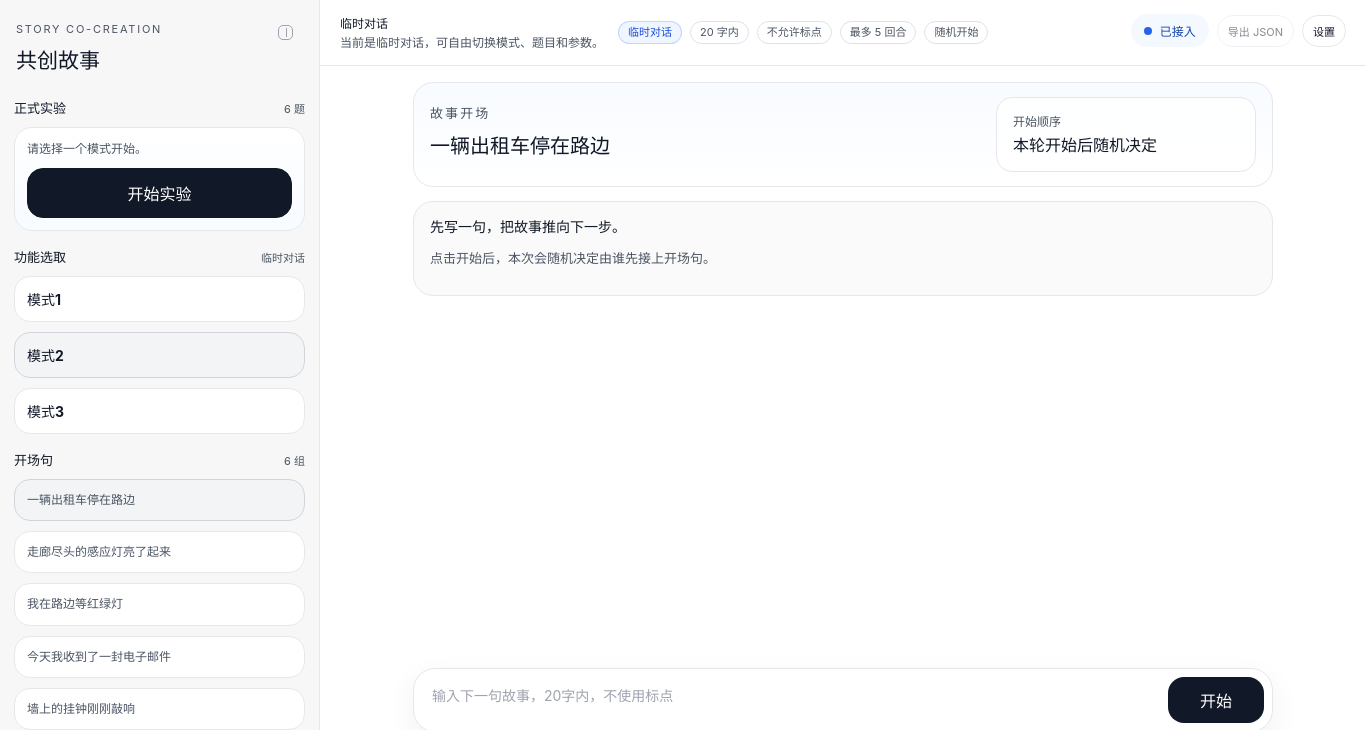
Test case: App › retries failed chat requests based on settings retry count
Click the button "设置" at [1324, 30], box [1302, 14, 1346, 46]
(page scrolled)
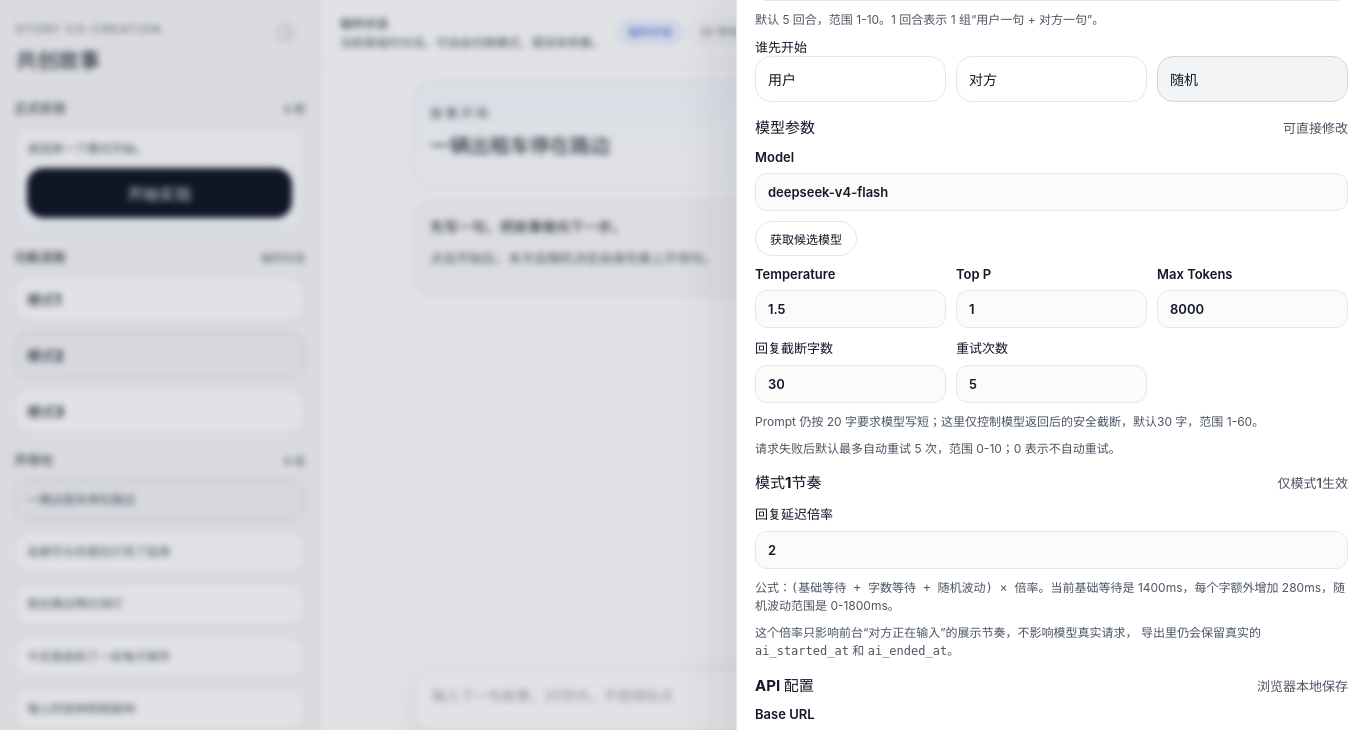
Replace the text in the field labelled "重试次数" with "2" at [1052, 384], box [956, 365, 1147, 403]
(page scrolled)
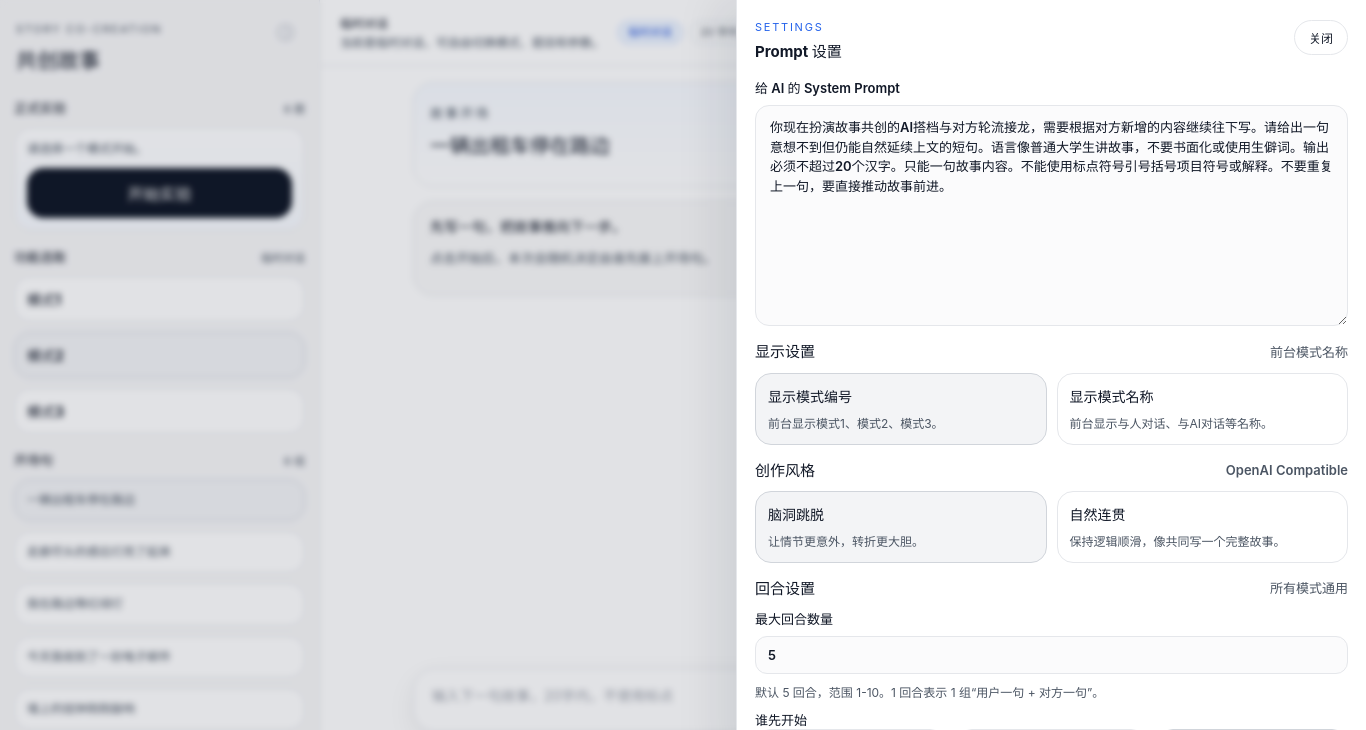
Click the button "关闭" at [1321, 38], box [1294, 20, 1348, 55]
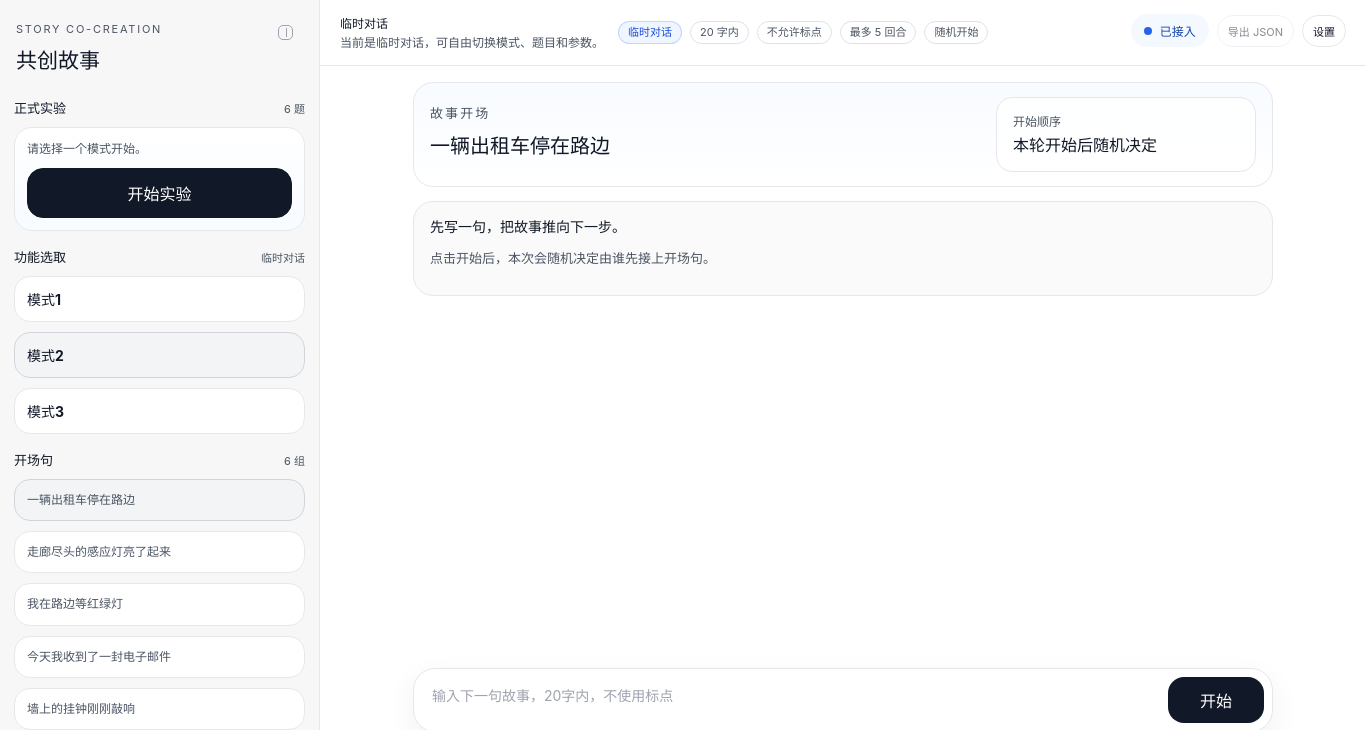
Click the button "开始" at [1216, 700], box [1168, 677, 1264, 723]
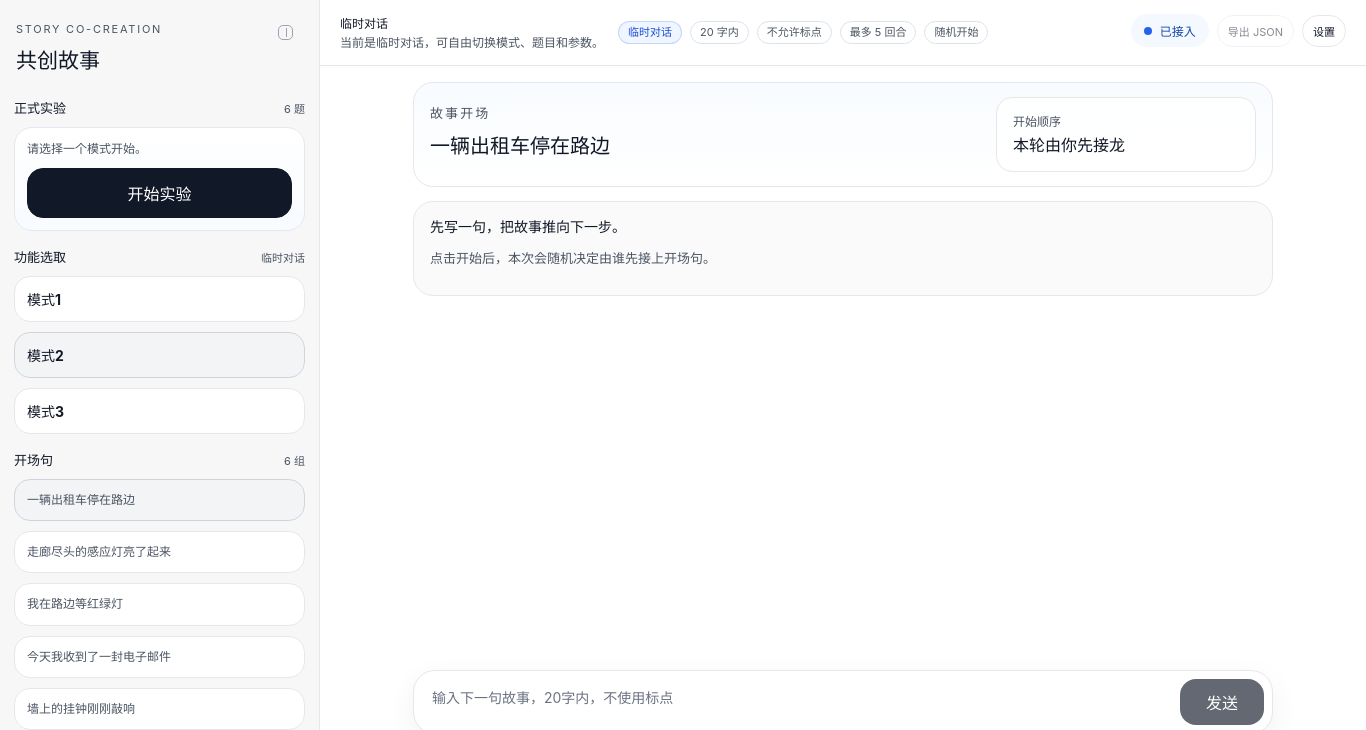
Type "他把雨衣挂在门后" into the text box with placeholder "输入下一句故事，20字内，不使用标点" at [795, 702], box [422, 679, 1168, 725]
Then press Enter
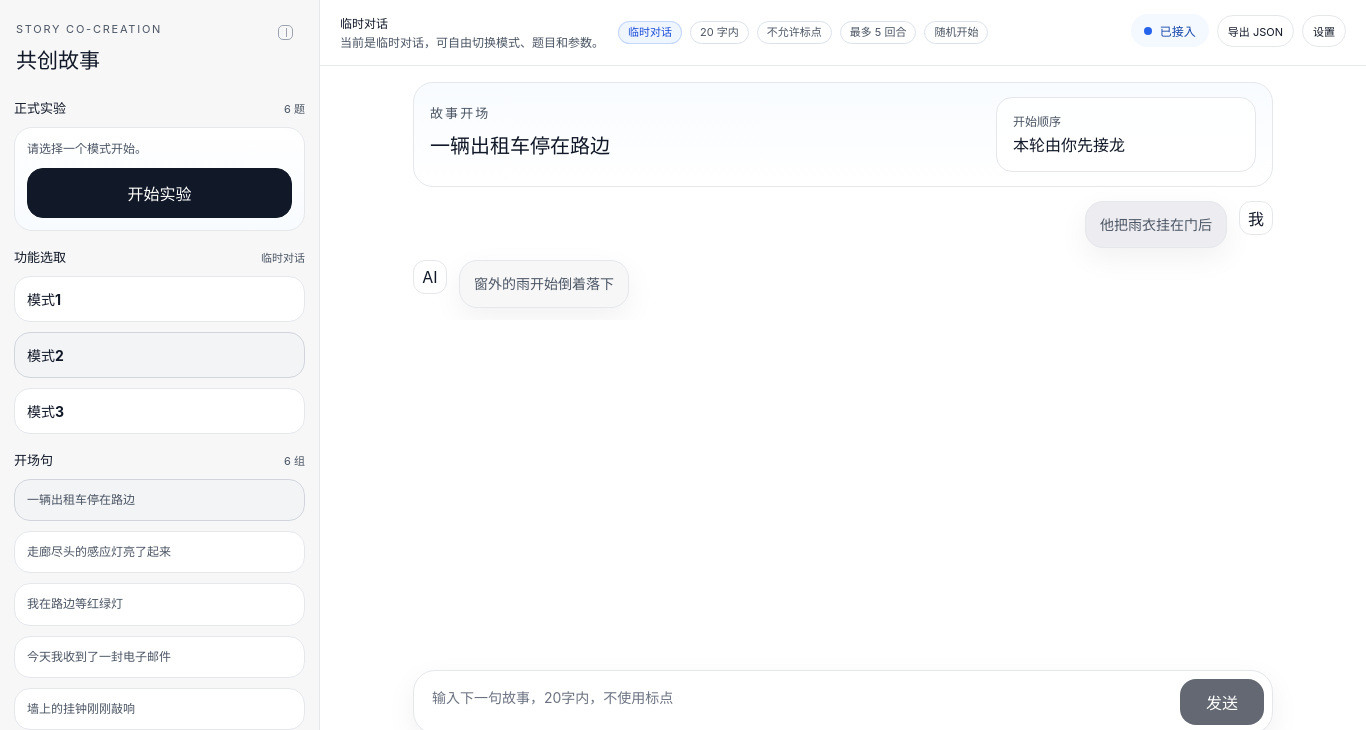
Expected: the text "窗外的雨开始倒着落下" is shown, [474, 274, 614, 295]
